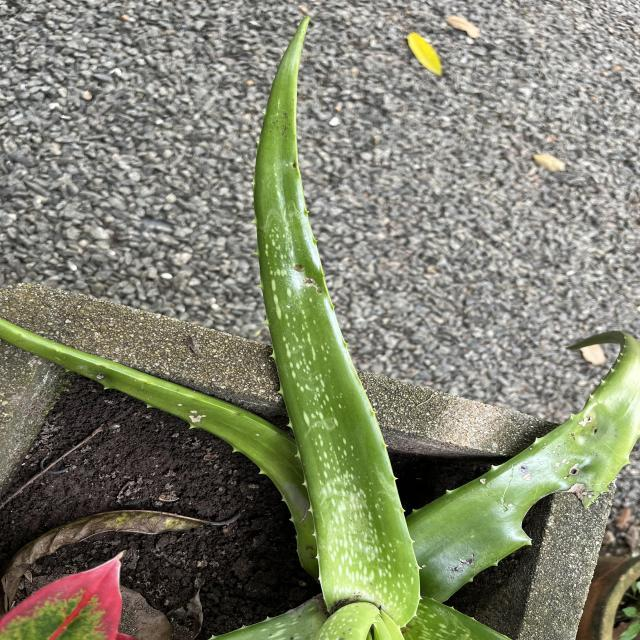Aloe vera: (248, 6, 424, 628)
